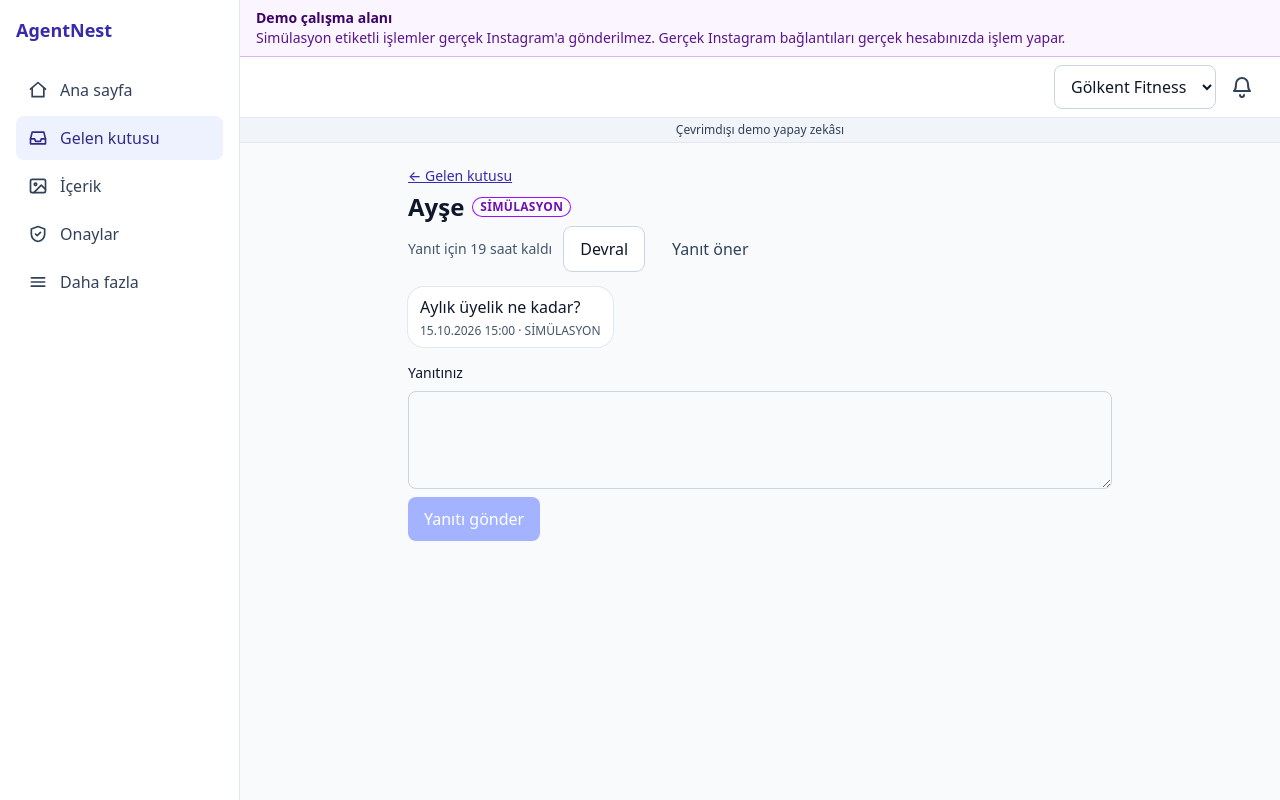
Test: inbox › sends your own reply with a request id and shows the warnings
Type "Aylık üyelik 5.000 ₺" into the text box labelled "Yanıtınız" at (760, 440), box [408, 391, 1112, 489]
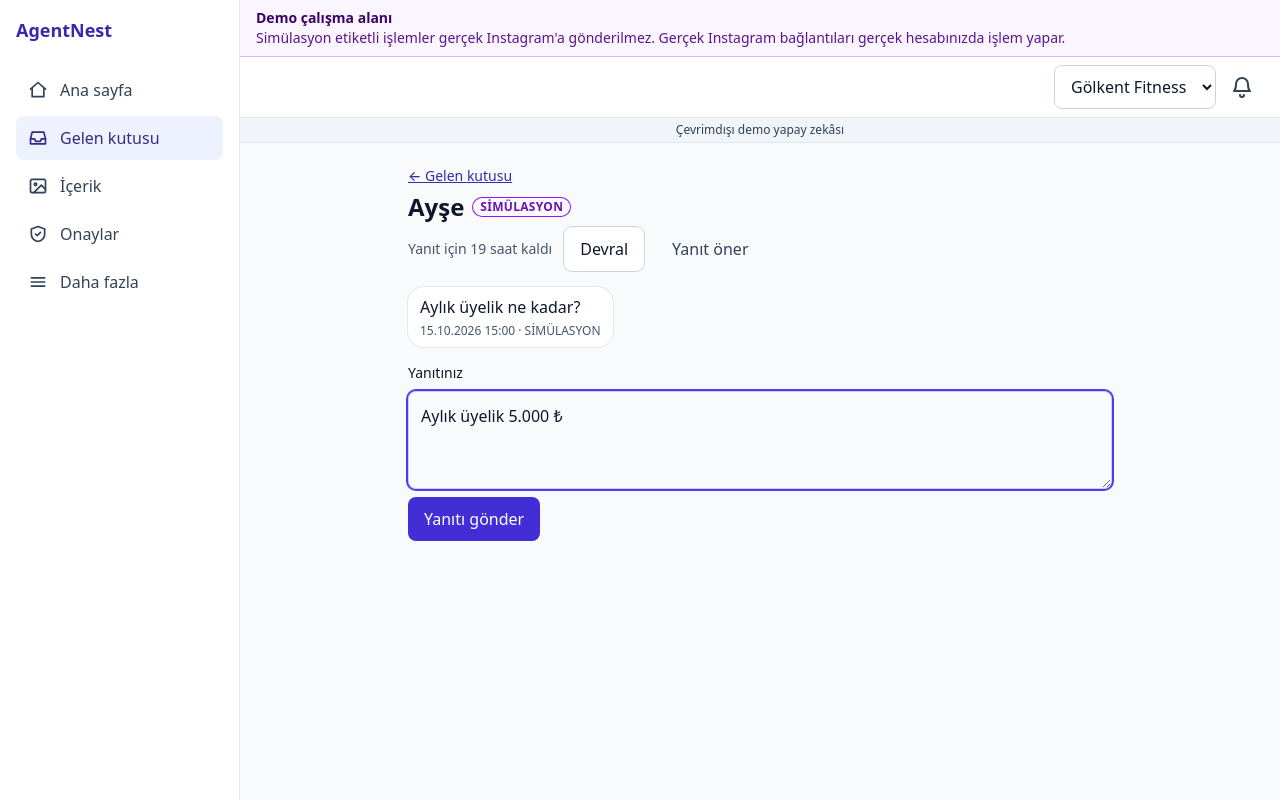
Click the button "Yanıtı gönder" at (474, 519), box [408, 497, 540, 541]
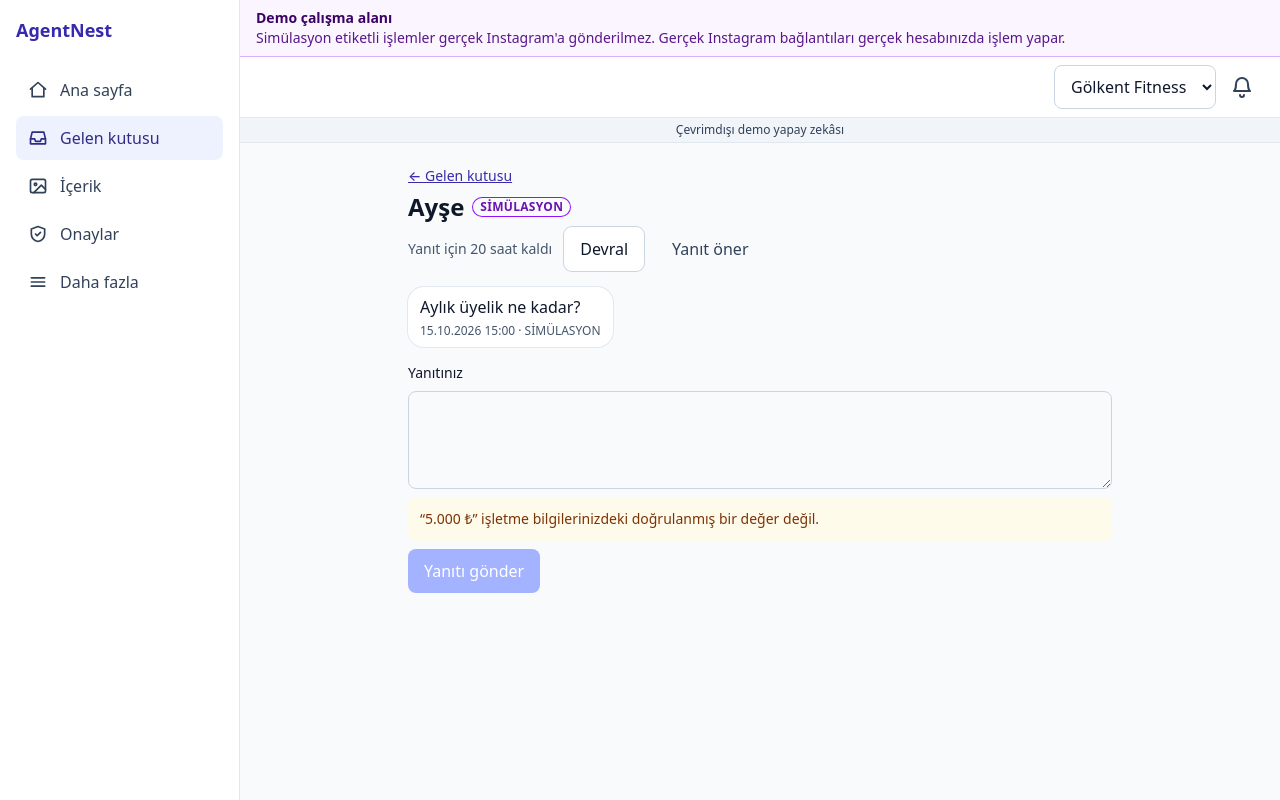
Expected: the list with test id "reply-warnings" shows "5.000 ₺", [420, 509, 819, 528]
